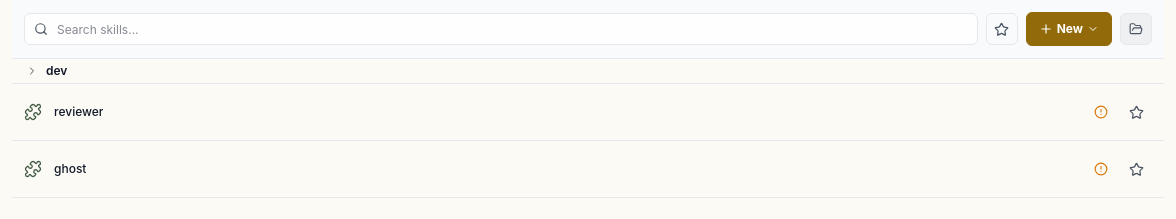
Test: LibraryList › combines the star filter with an active search
Type "e" into the field with test id "library-search" at (501, 29), box x1=24 y1=13 x2=978 y2=45
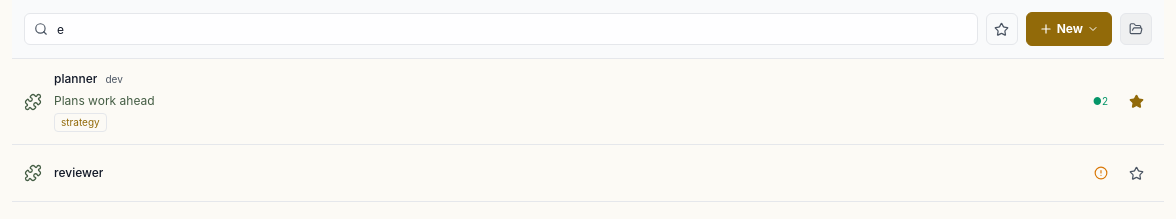
Expected: the button with test id "library-row-skills/reviewer" is shown, x1=12 y1=145 x2=1164 y2=202
Result: the button with test id "library-row-skills/dev/planner" is shown at x1=12 y1=59 x2=1164 y2=145
Click the button with test id "library-star-filter" at (1002, 29), box x1=986 y1=13 x2=1018 y2=45
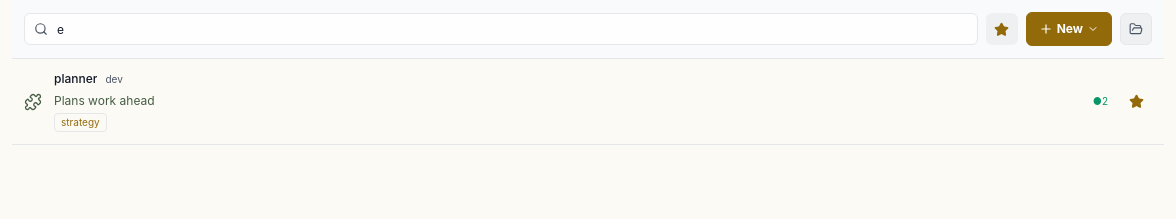
Result: the button with test id "library-row-skills/dev/planner" is shown at x1=12 y1=59 x2=1164 y2=145
Result: the button with test id "library-row-skills/reviewer" is gone
